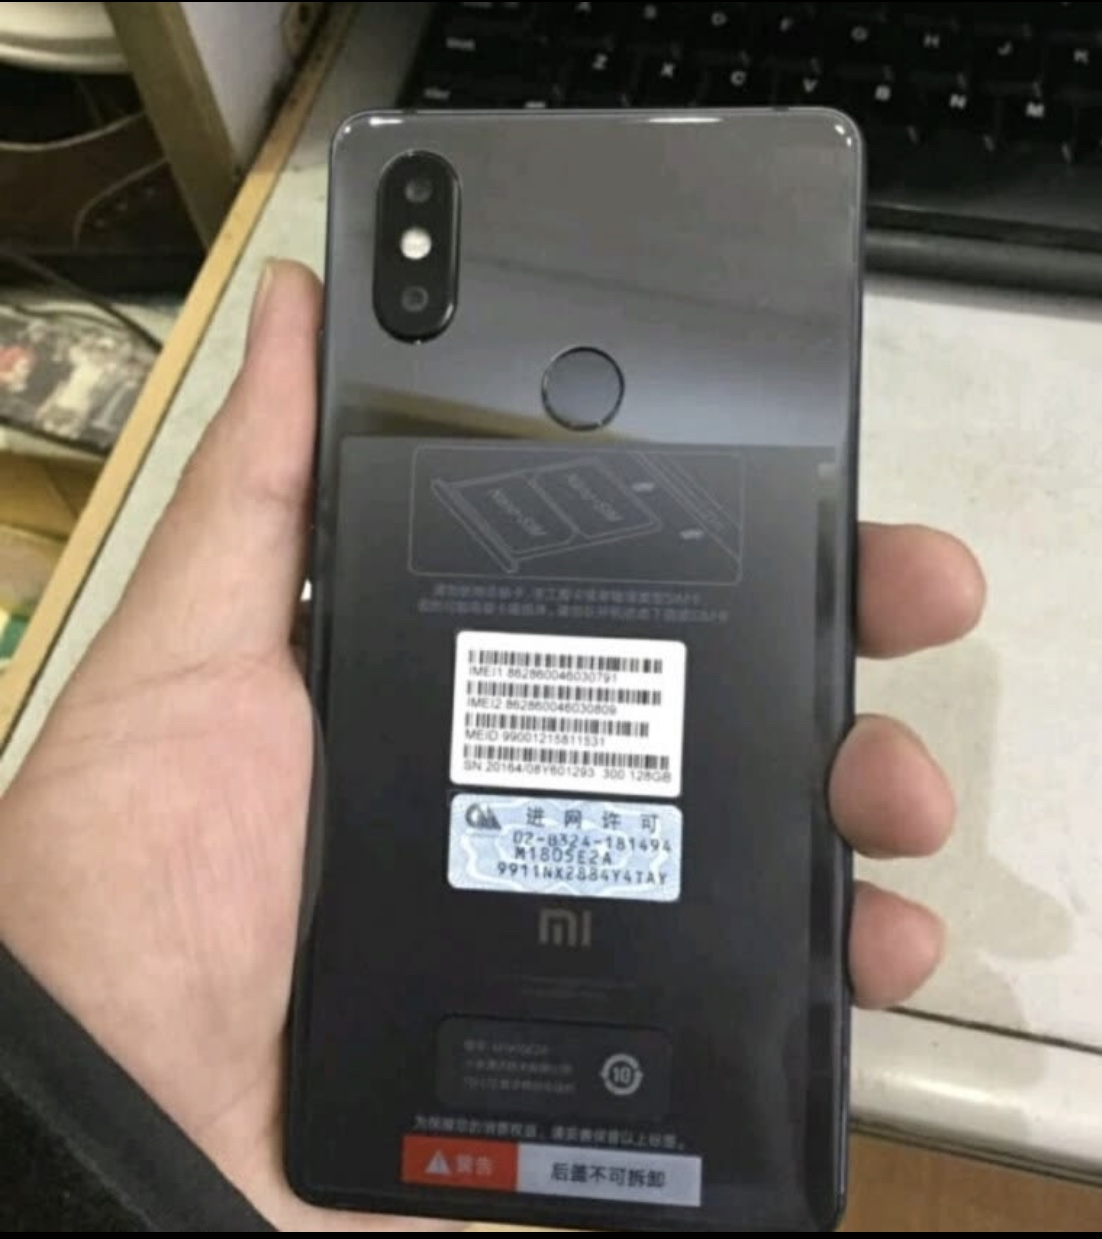mobil: (277, 93, 861, 1229)
